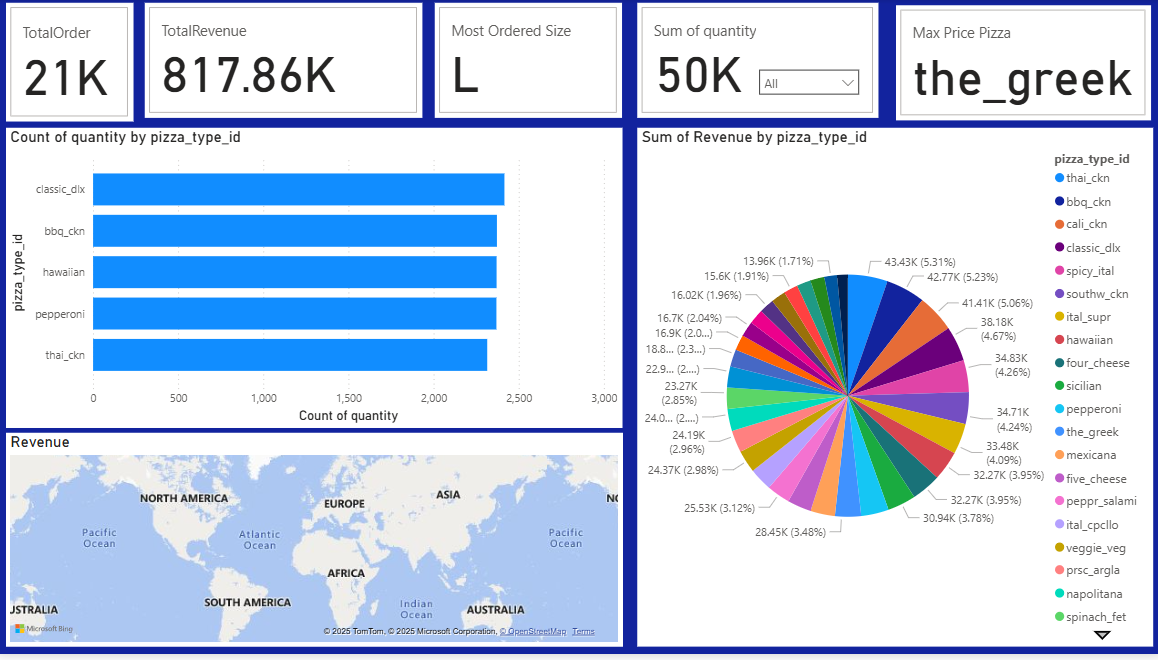

What the dashboard file says about the page in this screenshot:
{"tool":"powerbi","page":{"name":"Page 1","canvas":[1280,720],"ordinal":0},"visuals":[{"type":"cardVisual","fields":{"Data":["orders.TotalOrder"]},"box":[11,4.1,140,130.4],"z":0},{"type":"cardVisual","fields":{"Data":["order_details.TotalRevenue"]},"box":[163.3,4.1,304.6,126.2],"z":1000},{"type":"cardVisual","fields":{"Data":["orders.Max Price Pizza"]},"box":[988,6.9,279.9,126.2],"z":2000},{"type":"cardVisual","fields":{"Data":["pizzas.Most Ordered Size"]},"box":[481.6,4.1,205.8,126.2],"z":3000},{"type":"barChart","fields":{"Category":["pizzas.pizza_type_id"],"Y":["CountNonNull(order_details.quantity)"]},"box":[11,141.3,676.5,329.3],"z":4000},{"type":"cardVisual","fields":{"Data":["Sum(order_details.quantity)"]},"box":[703.9,4.1,264.8,126.2],"z":5000},{"type":"slicer","fields":{"Values":["pizzas.pizza_type_id"]},"box":[827.4,67.2,130.4,45.3],"z":6000},{"type":"pieChart","fields":{"Y":["Sum(order_details.Revenue)"],"Category":["pizzas.pizza_type_id"]},"box":[703.9,141.3,566.7,569.5],"z":7000},{"type":"map","fields":{"Series":["order_details.Revenue"]},"box":[11,476.2,676.5,234.6],"z":8000}]}

Visuals, with their boxes in screenshot pixels (x1, y1, x2, y2), scaled from the page's 1280x720 canvas onto the 1158x660 screenshot:
cardVisual - orders.TotalOrder: pyautogui.locateOnScreen(10, 4, 137, 123)
cardVisual - order_details.TotalRevenue: pyautogui.locateOnScreen(148, 4, 423, 119)
cardVisual - orders.Max Price Pizza: pyautogui.locateOnScreen(894, 6, 1147, 122)
cardVisual - pizzas.Most Ordered Size: pyautogui.locateOnScreen(436, 4, 622, 119)
barChart - pizzas.pizza_type_id x CountNonNull(order_details.quantity): pyautogui.locateOnScreen(10, 130, 622, 431)
cardVisual - Sum(order_details.quantity): pyautogui.locateOnScreen(637, 4, 876, 119)
slicer - pizzas.pizza_type_id: pyautogui.locateOnScreen(749, 62, 867, 103)
pieChart - Sum(order_details.Revenue) x pizzas.pizza_type_id: pyautogui.locateOnScreen(637, 130, 1149, 652)
map - order_details.Revenue: pyautogui.locateOnScreen(10, 437, 622, 652)
